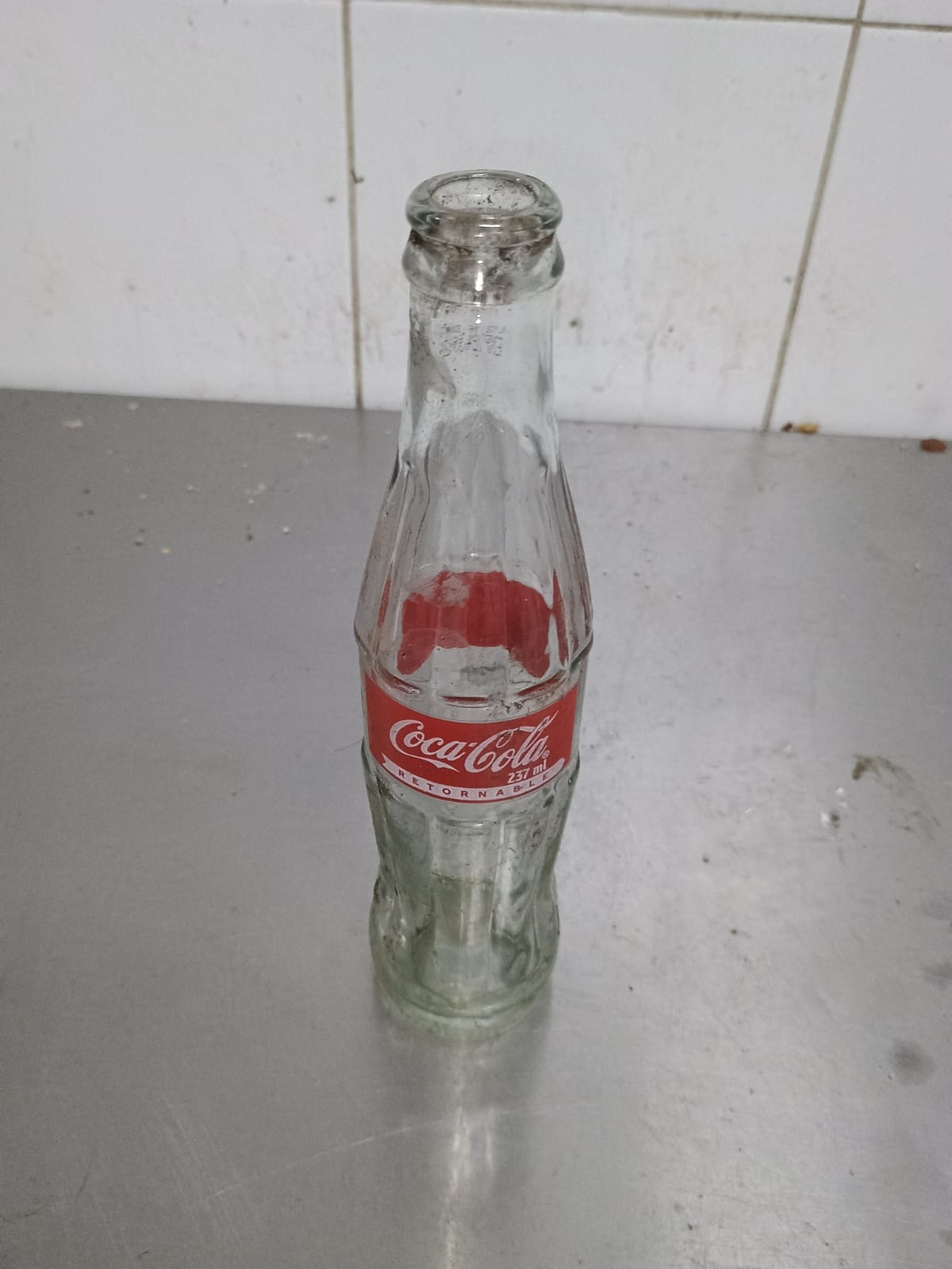Vidrio: (349, 168, 597, 1032)
